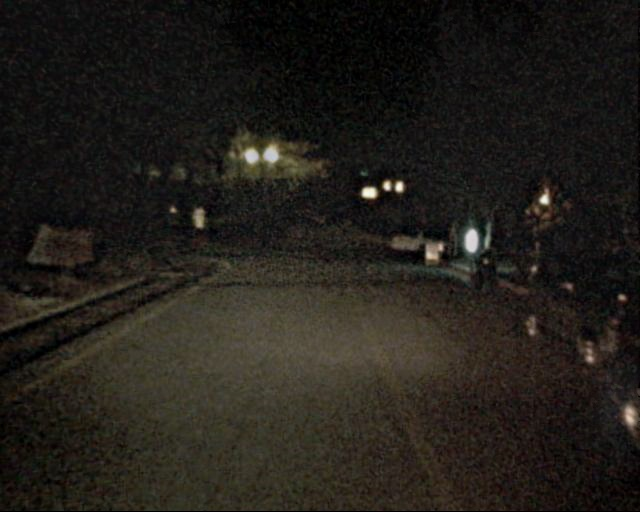person: (542, 226, 567, 287)
